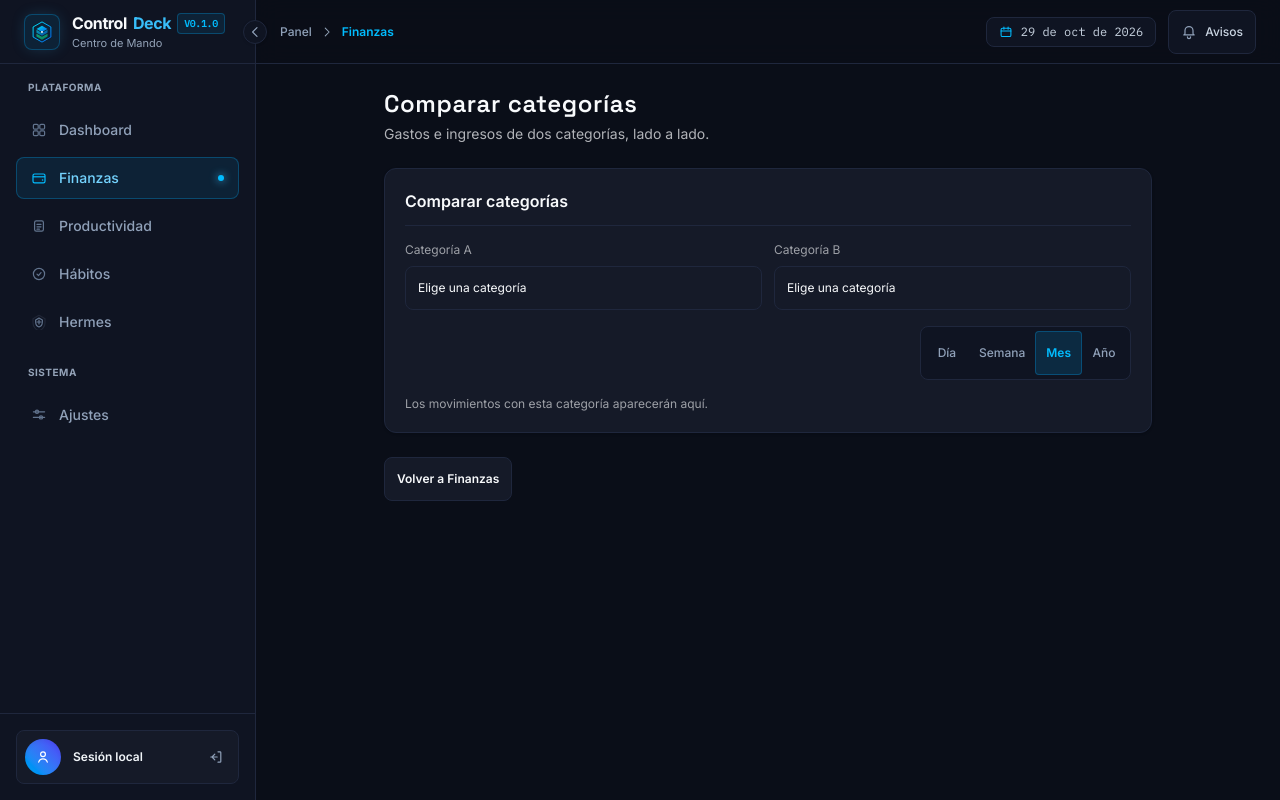
Test: compare page (movement split) › no pide el ledger hasta que ambas categorías están elegidas (S1)
Select "Comida" in the dropdown labelled "Categoría A" at (584, 288), box 405,266 -> 762,310
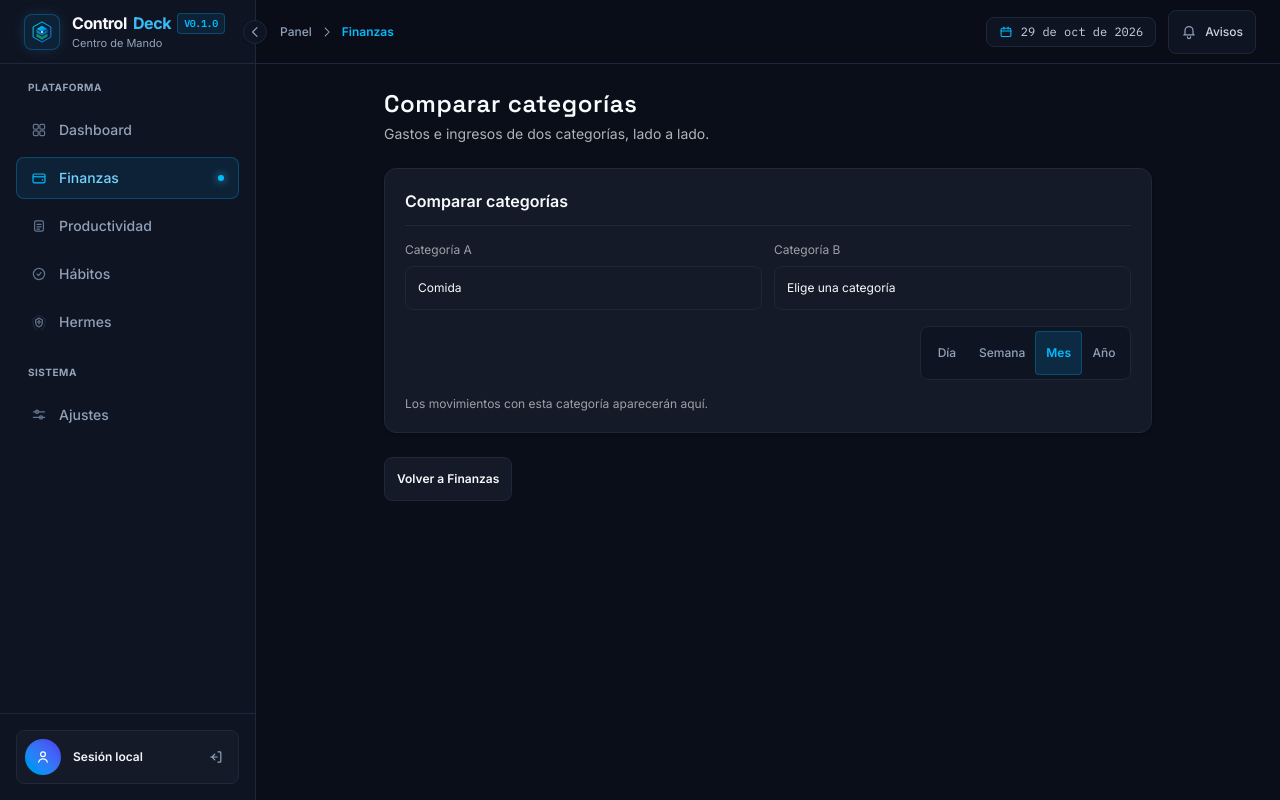
Select "Sueldo" in the dropdown labelled "Categoría B" at (952, 288), box 774,266 -> 1131,310
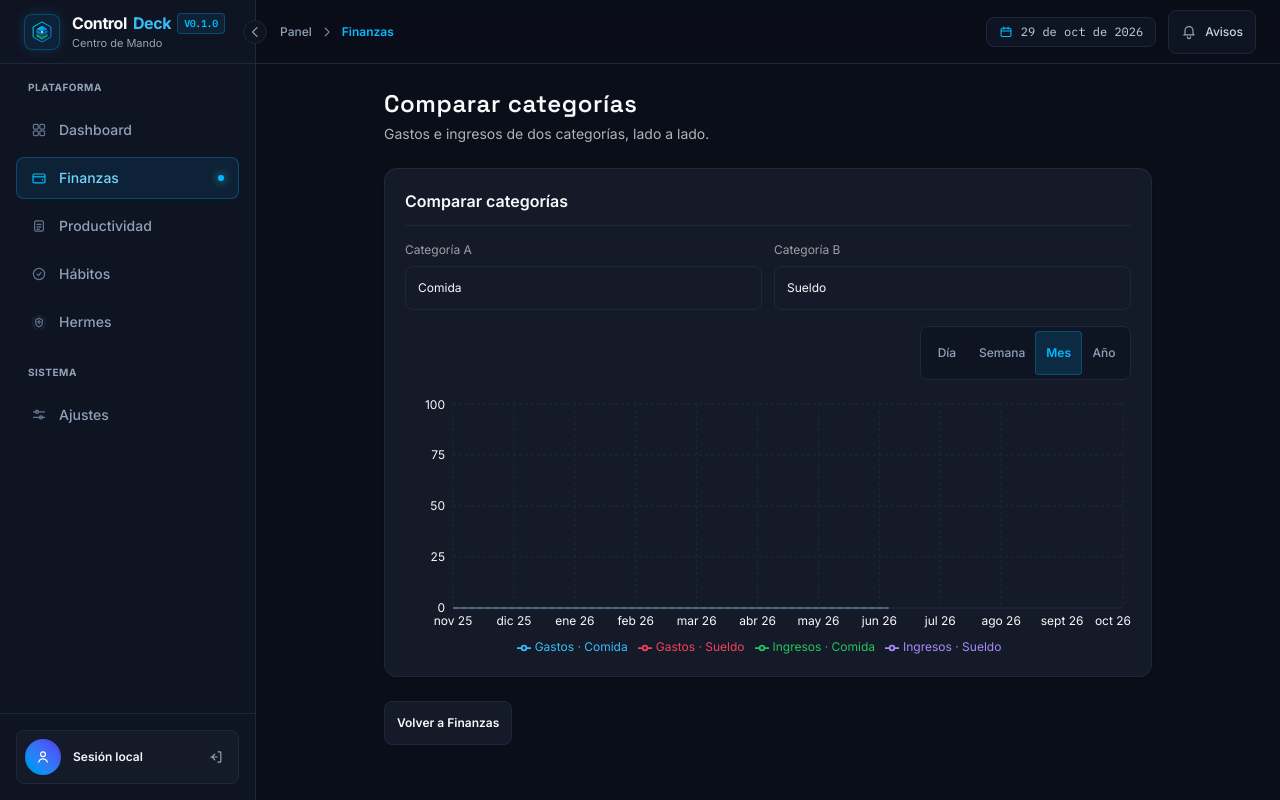
Result: the picture named "Tendencia de gastos e ingresos" is shown at 405,396 -> 1131,656
